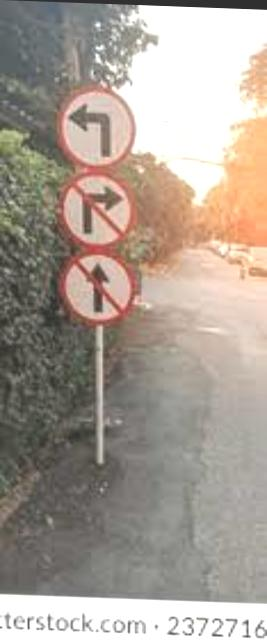not_go_straight: (62, 248, 139, 328)
not_turn_right: (53, 172, 145, 250)
